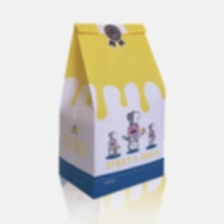snack: (51, 13, 181, 204)
